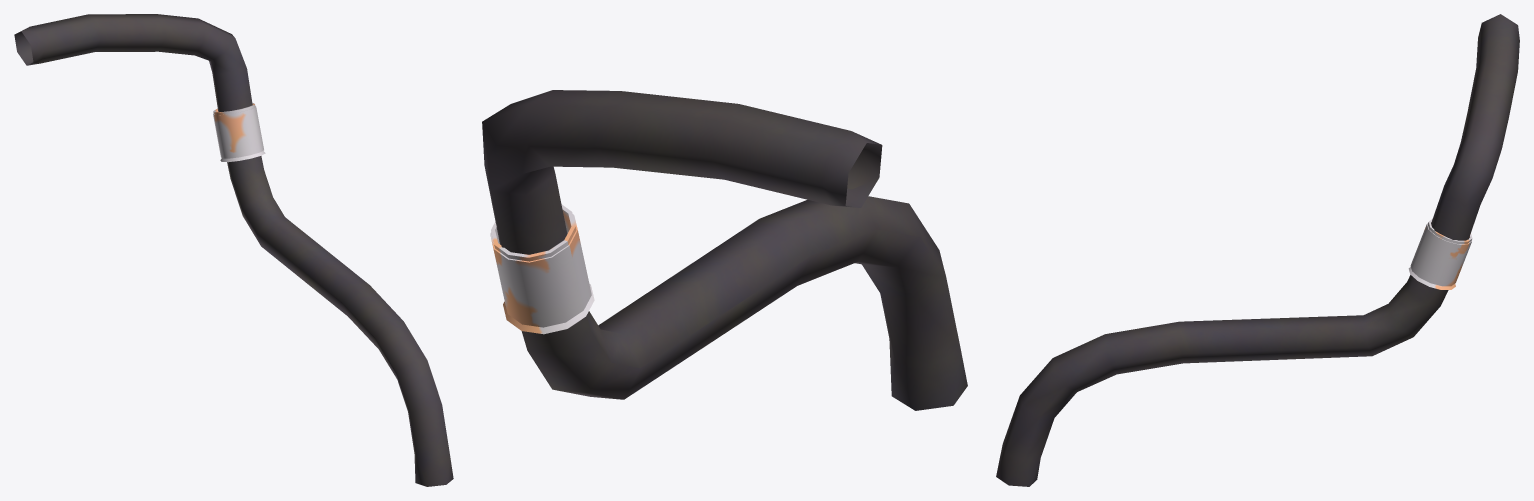
Rendered from Pipes_3.fbx.
3 views of the same model, side by side, from view 1: azimuth 30°, elevation 25°; view 2: azimuth 150°, elevation 25°; view 3: azimuth 270°, elevation 25° (orthographic). The views are drawn at different scales.
Parts seen in each view (by area): view 1: Pipes_3; view 2: Pipes_3; view 3: Pipes_3.
Boxes of the visible parts, box(x1,y1,x2,y2) form: Pipes_3: box(14, 14, 453, 486); Pipes_3: box(482, 90, 967, 410); Pipes_3: box(996, 14, 1519, 486).
Bounding box in the file's own units: 91.11 × 139 × 180.
